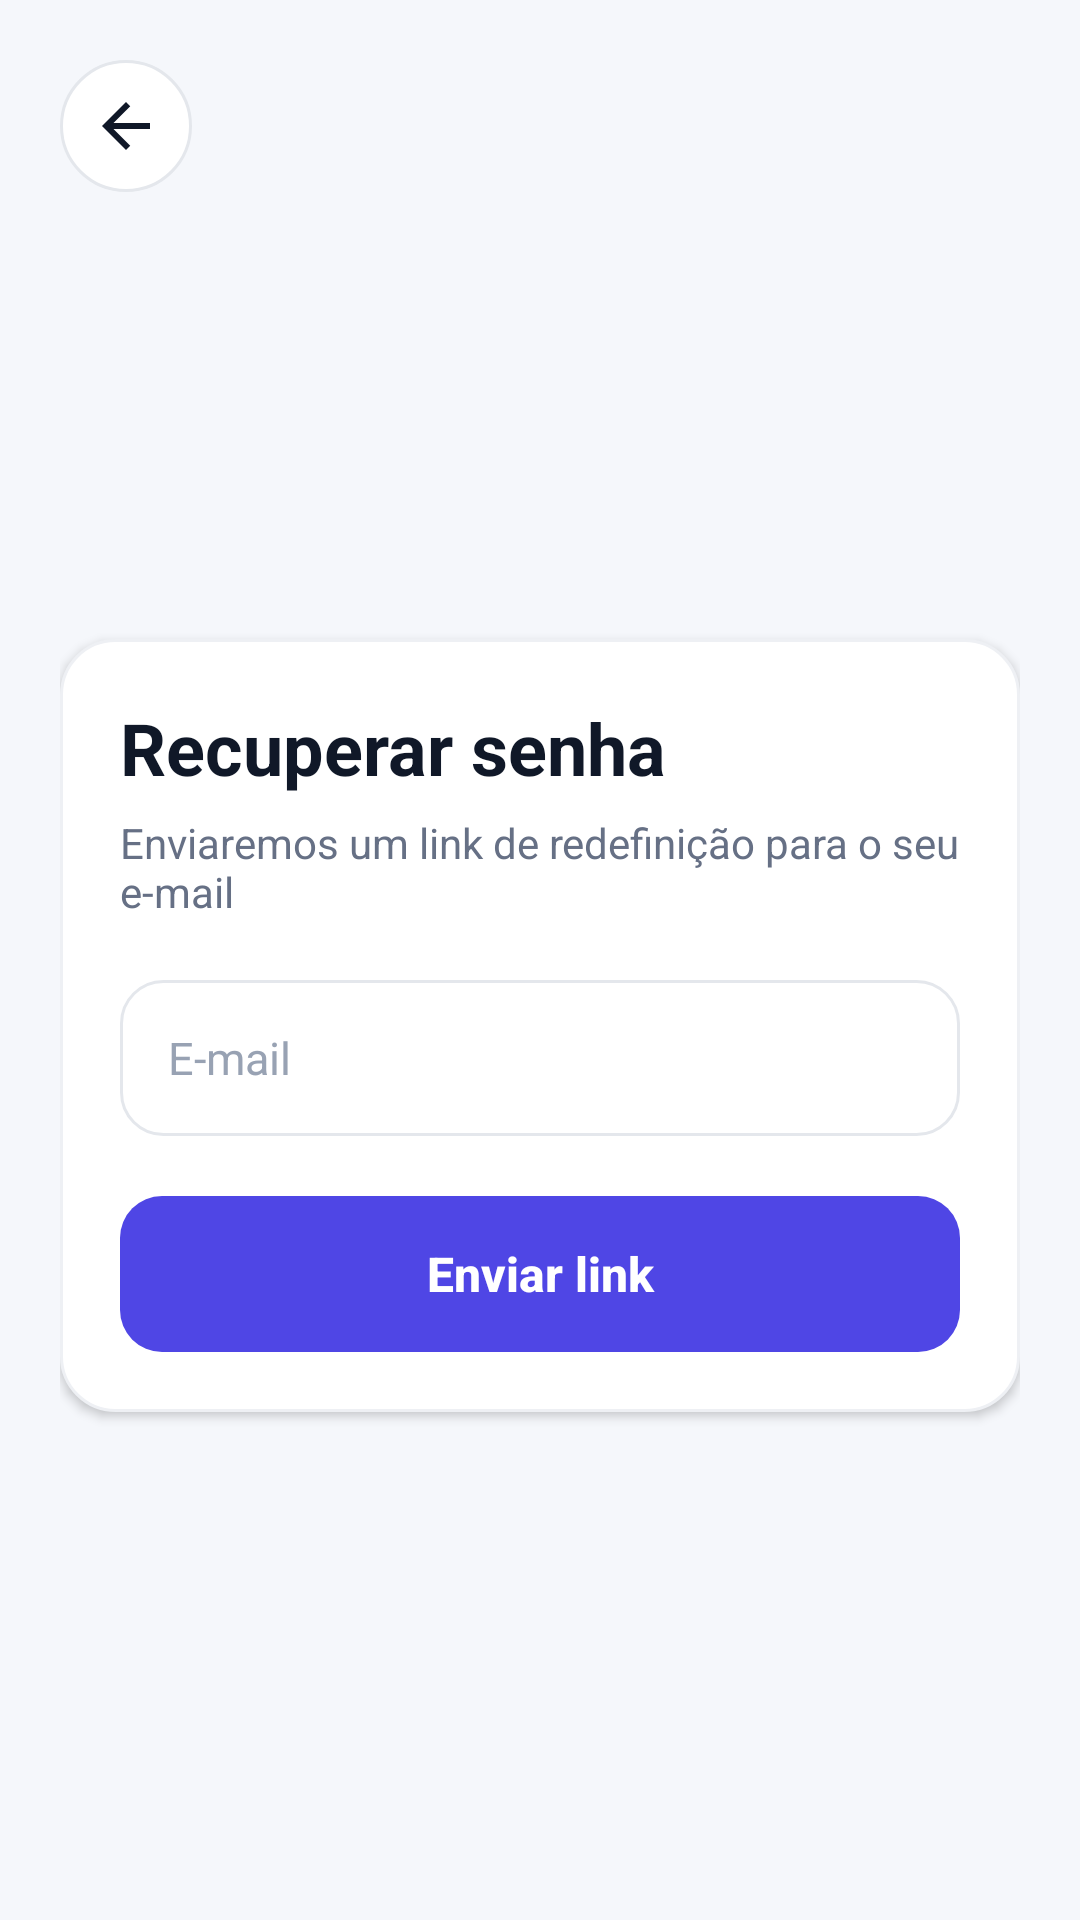

Screen size 1080px×1920px. Icon name, then its center in pixels as point (x, y):
Voltar: point (126, 126)
